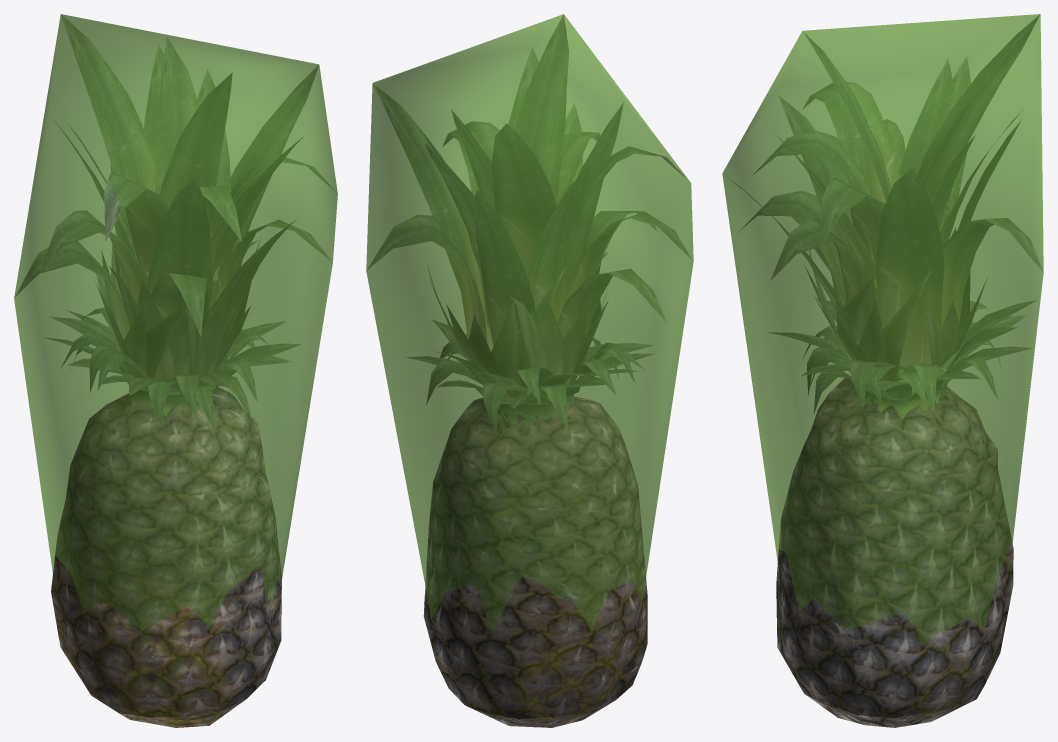
Rendered from pg_Pineapple_01_a.fbx.
3 views of the same model, side by side, from view 1: azimuth 30°, elevation 25°; view 2: azimuth 150°, elevation 25°; view 3: azimuth 270°, elevation 25° (orthographic). The views are drawn at different scales.
Parts seen in each view (by area): view 1: pg_Pineapple_01_a_col, pg_Pineapple_01_a_LOD0; view 2: pg_Pineapple_01_a_col, pg_Pineapple_01_a_LOD0; view 3: pg_Pineapple_01_a_col, pg_Pineapple_01_a_LOD0.
Part boxes in pixels (x1,y1,x2,y2): pg_Pineapple_01_a_col: (14,14,337,630); pg_Pineapple_01_a_LOD0: (14,14,337,727); pg_Pineapple_01_a_col: (366,14,693,632); pg_Pineapple_01_a_LOD0: (366,14,692,727); pg_Pineapple_01_a_col: (722,14,1043,646); pg_Pineapple_01_a_LOD0: (727,14,1042,727).
Size of what is drawn, in the model's own units: 28.43 by 59.94 by 25.3.
